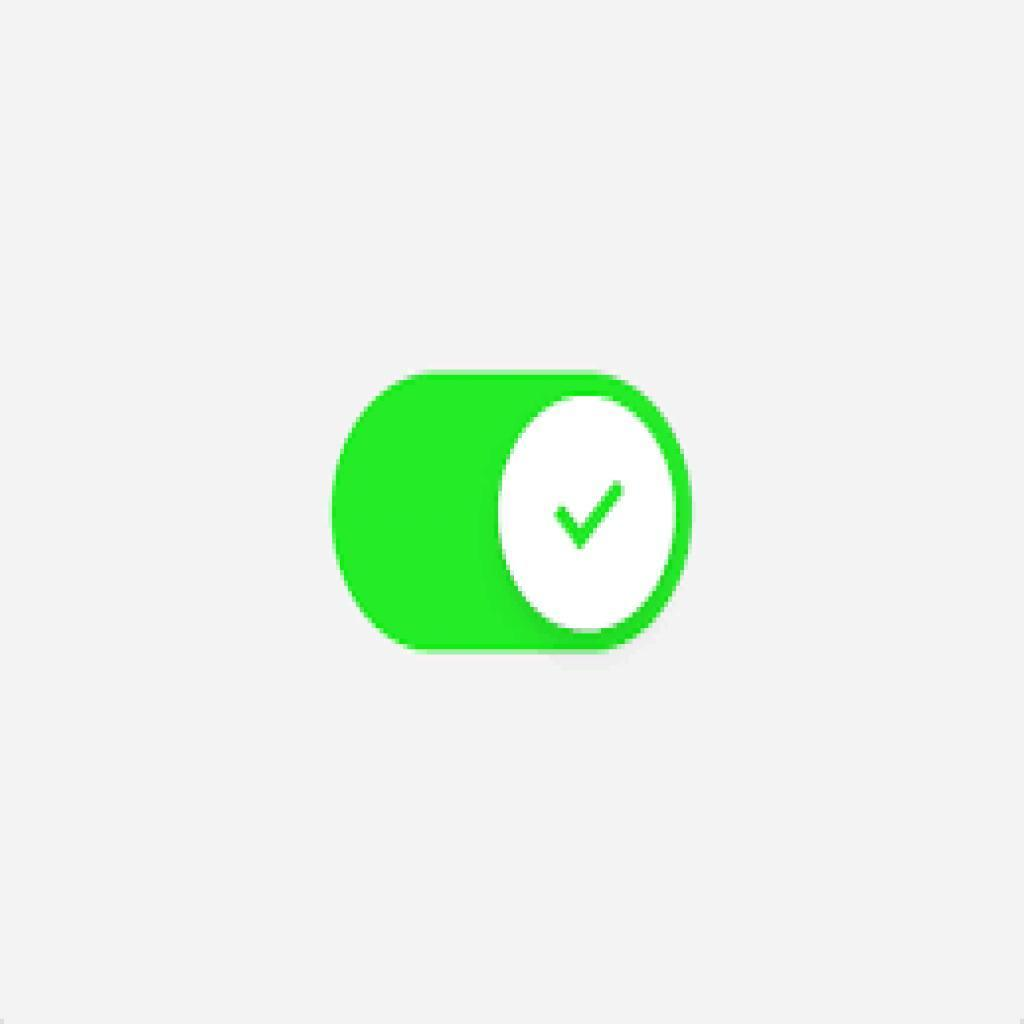switch: (330, 371, 696, 659)
